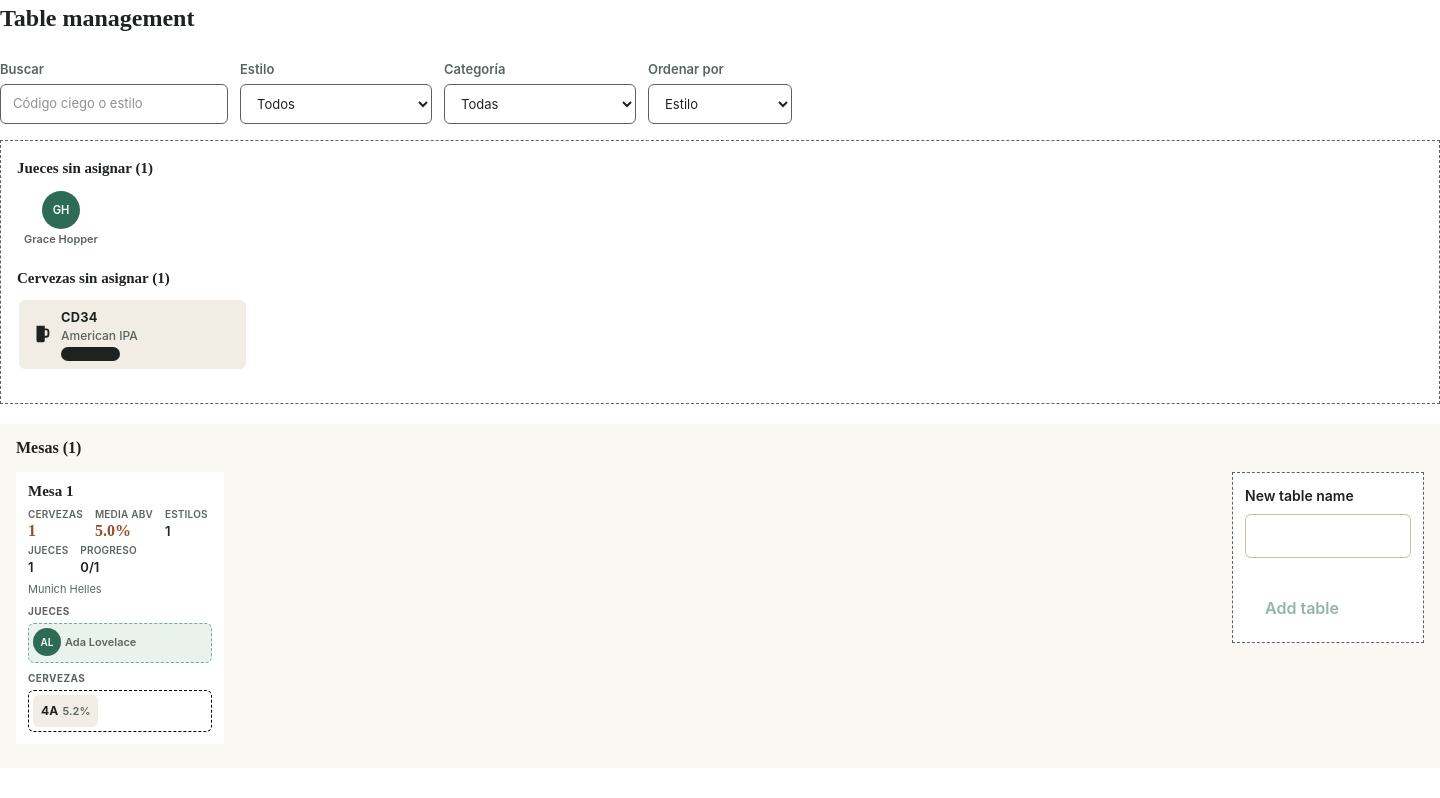
Test: TableBoardComponent › shows the BOS warning banner when a mutation response has non-empty bosFlaggedEntryIds
The image size is (1440, 798).
In the field with id "new-table-name": (1328, 536) x1=1245 y1=514 x2=1411 y2=558, type "Mesa 2"
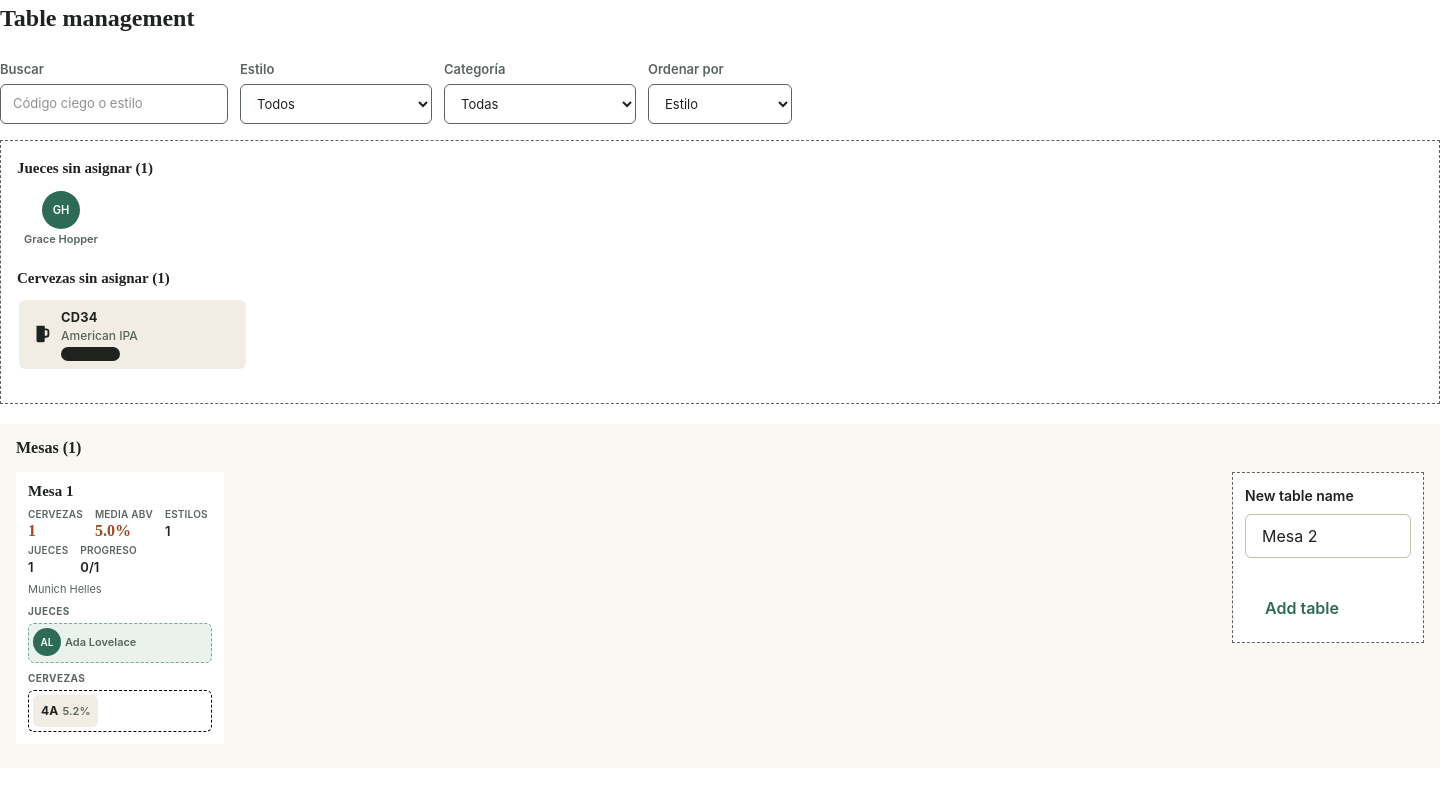
Click the button "Add table": (1302, 608) x1=1245 y1=586 x2=1359 y2=630
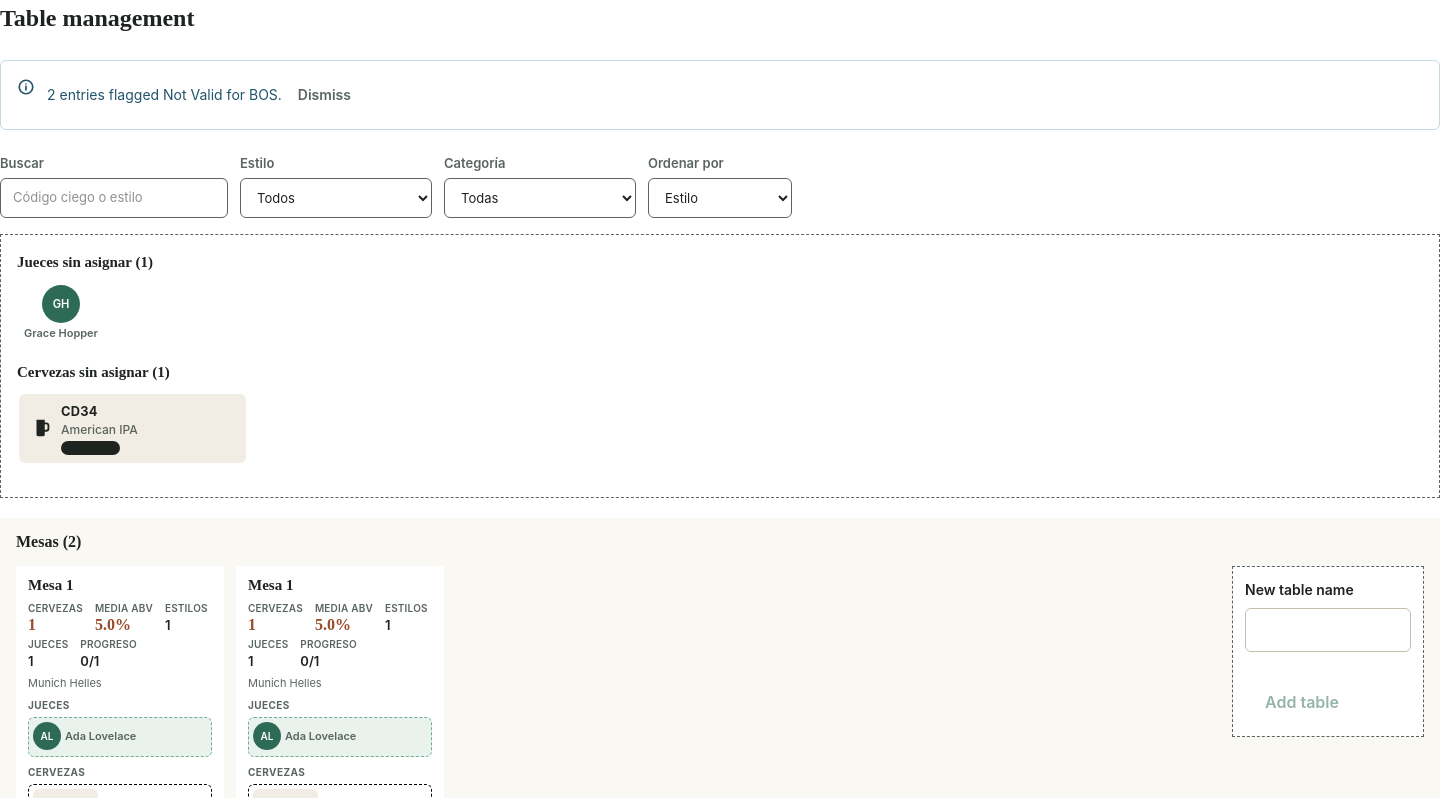
Result: the text "2 entries flagged Not Valid for BOS." is shown at x1=47 y1=86 x2=286 y2=103
